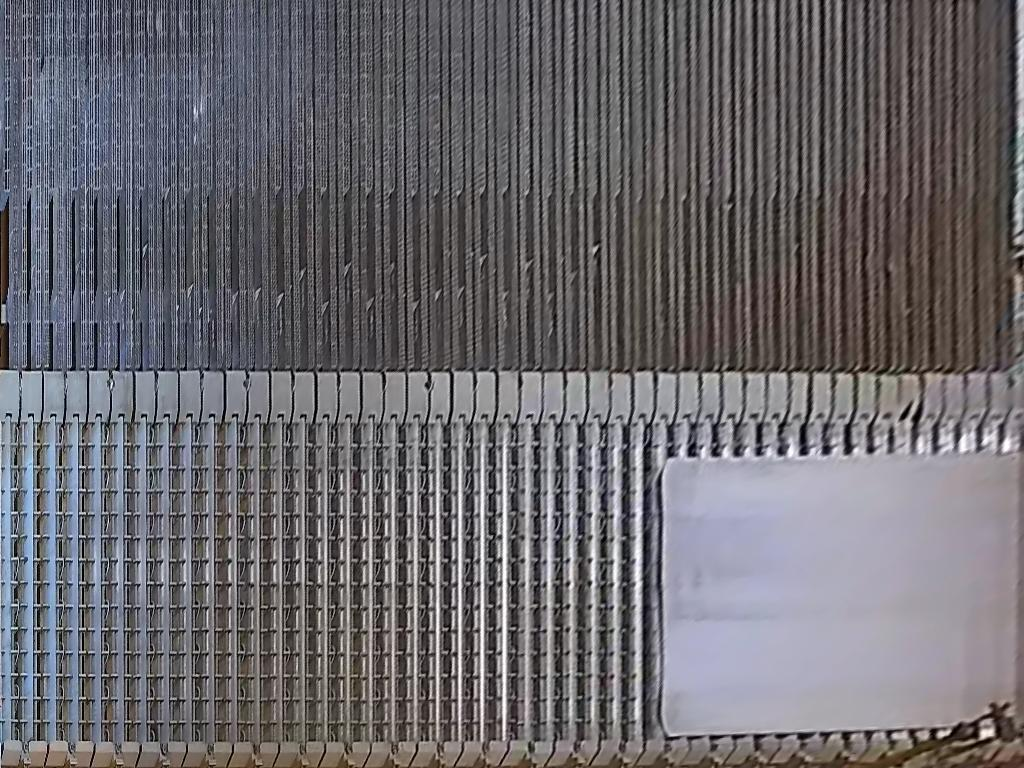steel: (660, 454, 1024, 737)
